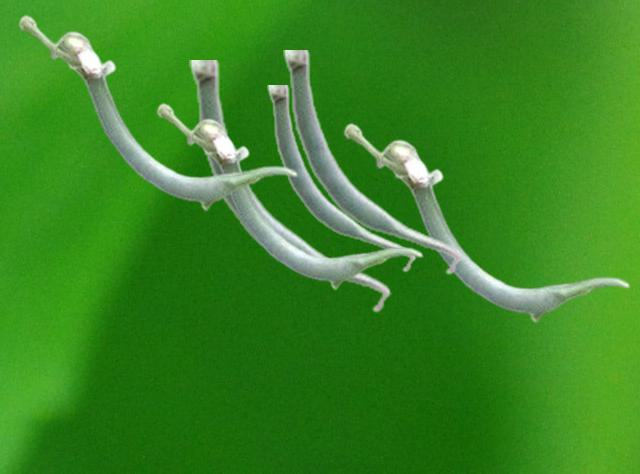french_bean: (343, 122, 629, 322), (18, 14, 297, 210), (189, 60, 390, 313), (156, 102, 422, 289), (283, 50, 461, 275), (267, 85, 415, 272)
